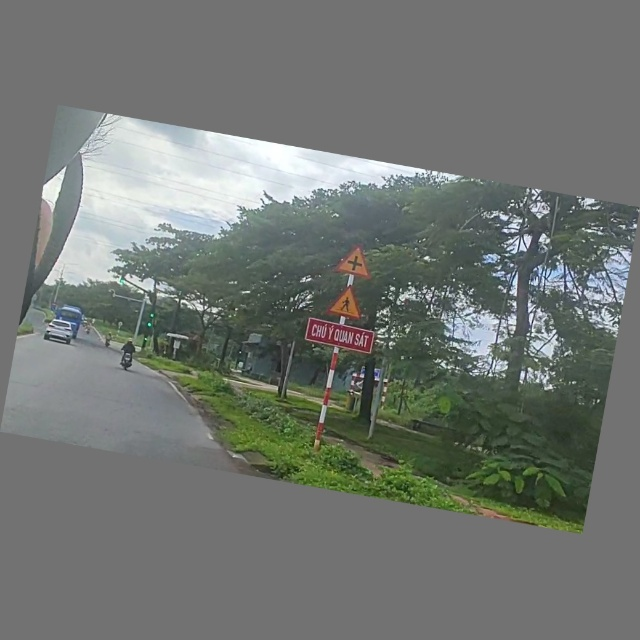W.205a: (334, 241, 380, 279)
W.224: (325, 281, 375, 321)
